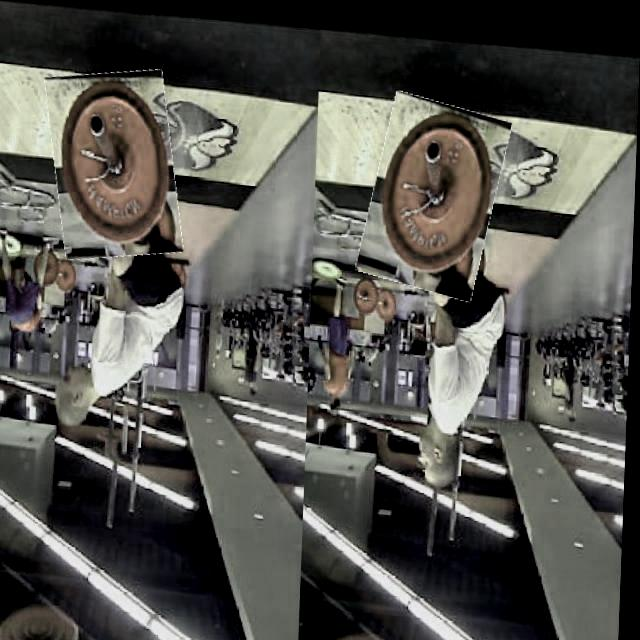barbell: (365, 86, 507, 292), (48, 64, 185, 262)
